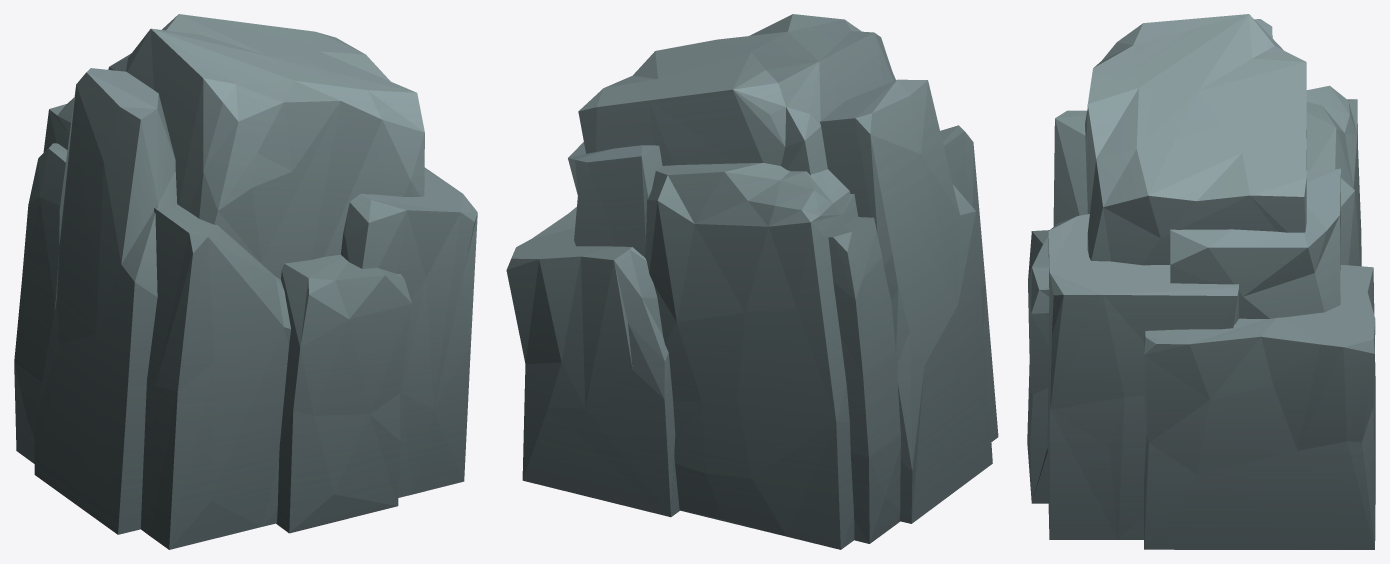
The model's file is BigRock_03.obj.
3 renders of one model, left to right at view 1: azimuth 30°, elevation 25°; view 2: azimuth 150°, elevation 25°; view 3: azimuth 270°, elevation 25°, orthographic.
Parts seen in each view (by area): view 1: BigRock_03; view 2: BigRock_03; view 3: BigRock_03.
Boxes of the visible parts, <box> form: BigRock_03: <box>14,14,477,549</box>; BigRock_03: <box>506,14,998,549</box>; BigRock_03: <box>1027,14,1375,549</box>.
Size of the model in its own units: 5.47 by 6.24 by 4.65.
Materials: 1 (1 with a texture image).
